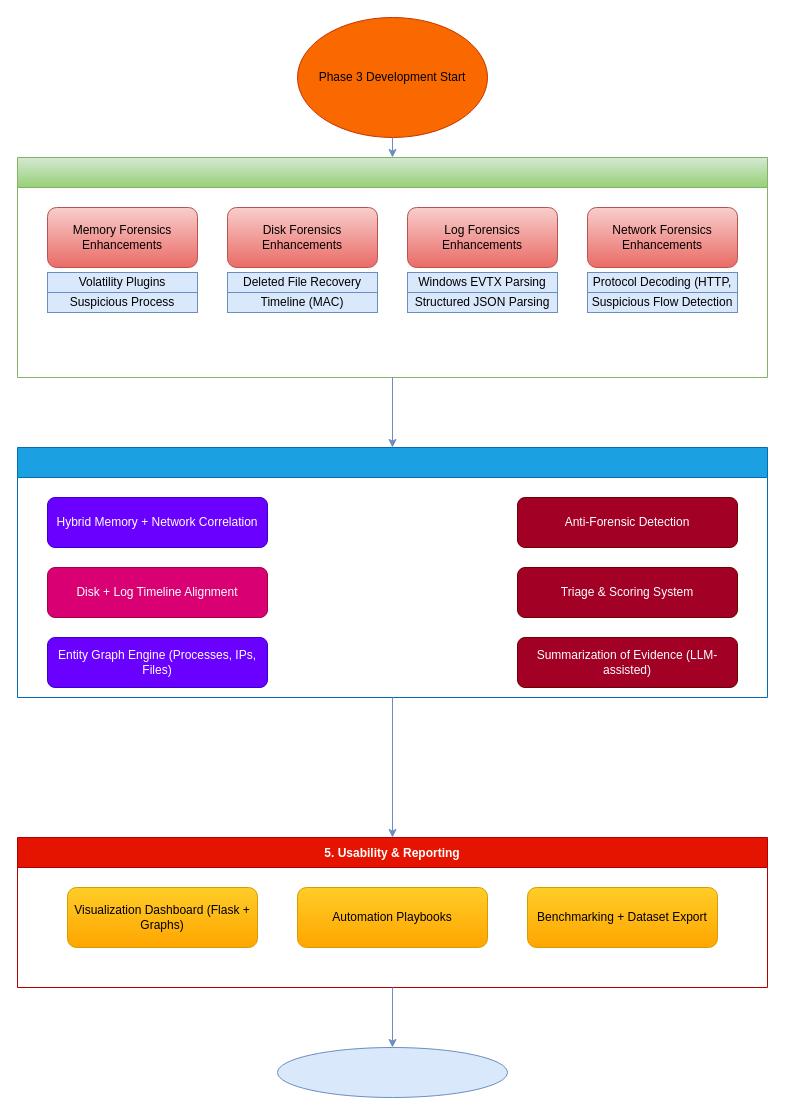
Some shapes in this 785 by 1115 pixel diagram are drawn without their labels. Here are the shapes that lost their labels. From the top down, the box of each, then its label:
(16, 156, 768, 378): 2. Core Module Enhancements
(16, 446, 768, 698): 3. Cross-Domain Features & 4. Unique Differentiators
(276, 1046, 508, 1098): Phase 3 Complete – Research Innovations Ready
